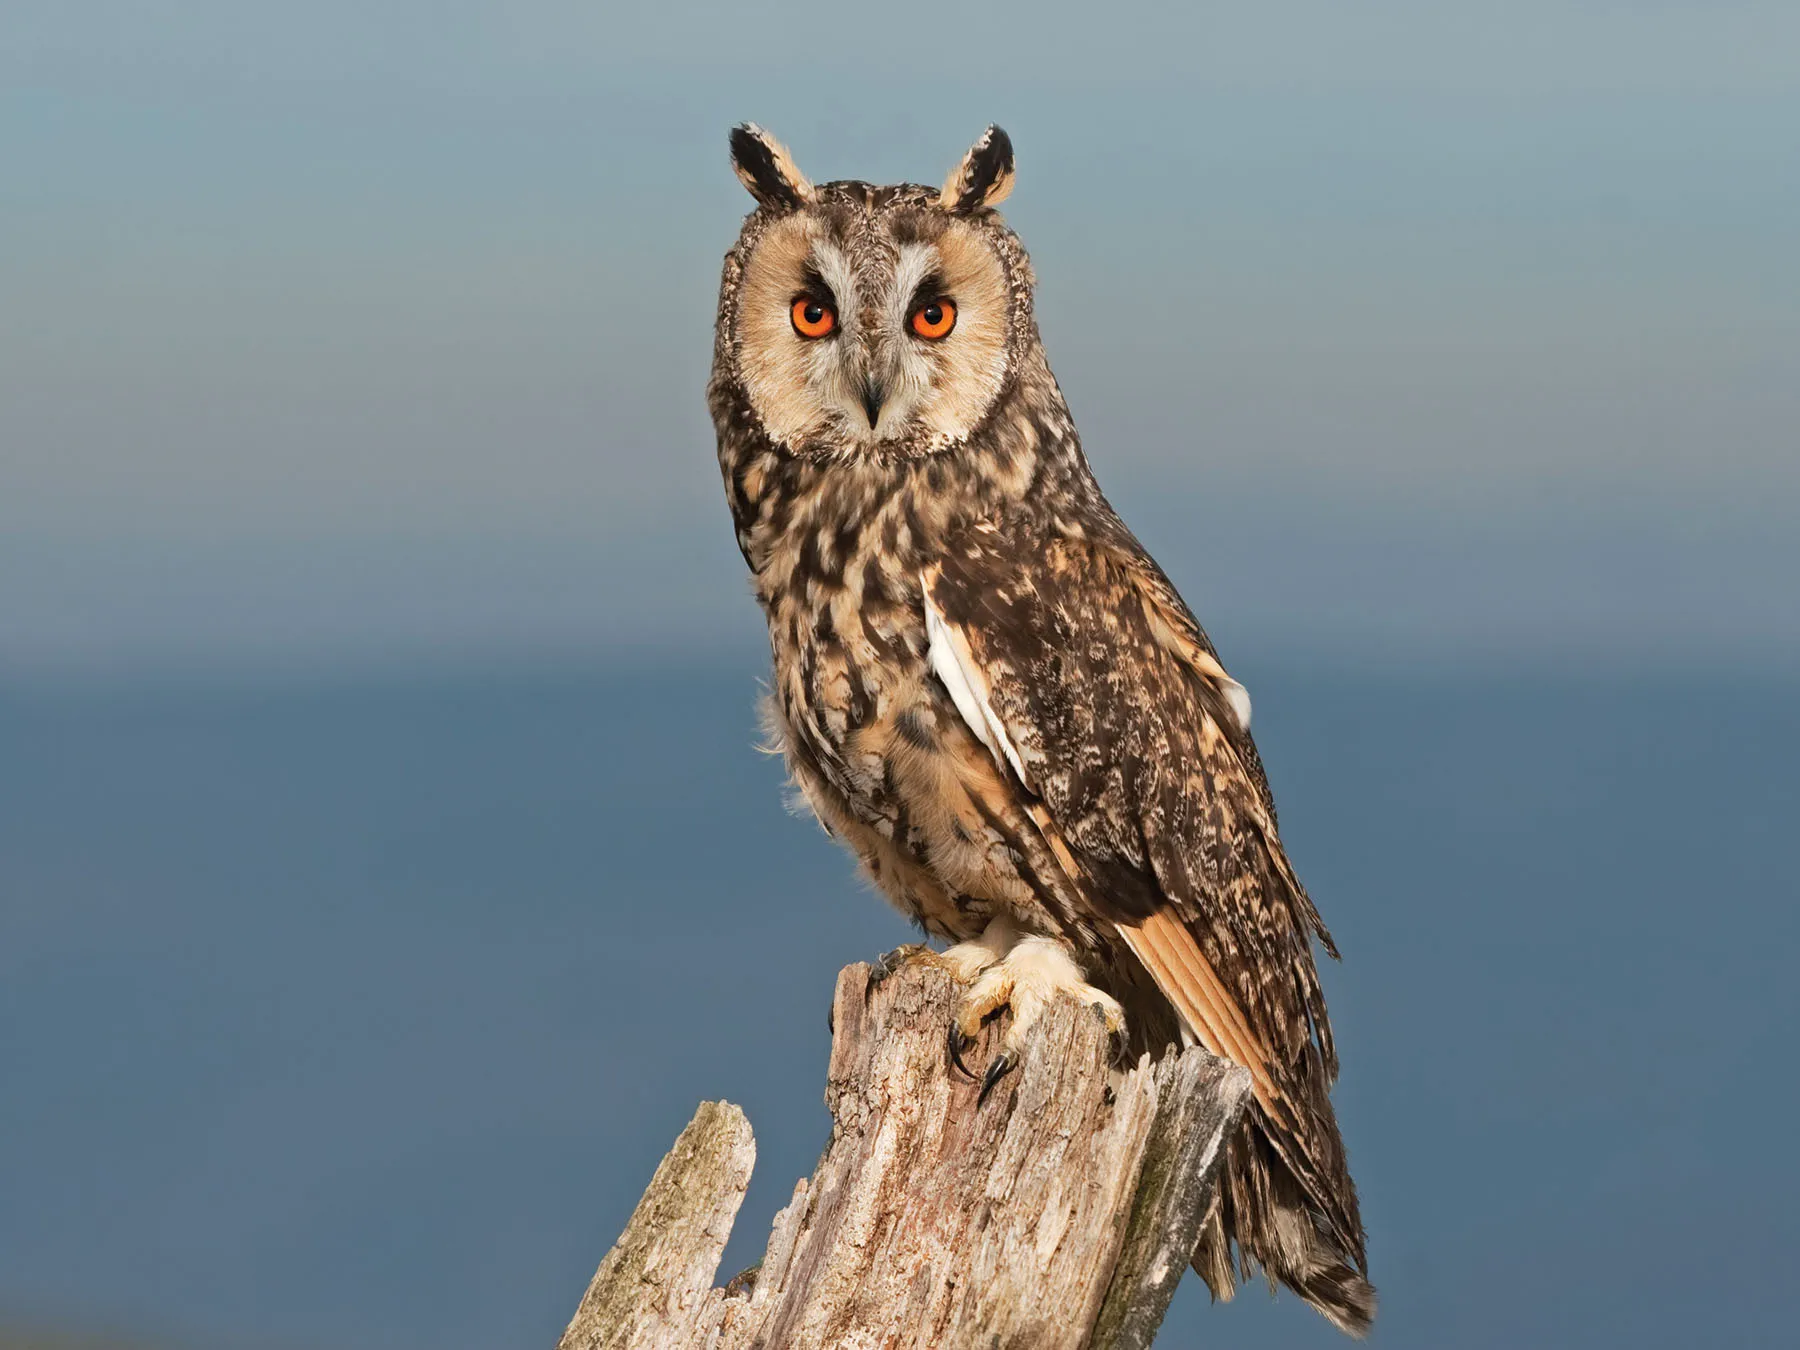owl: (686, 92, 1419, 1299)
